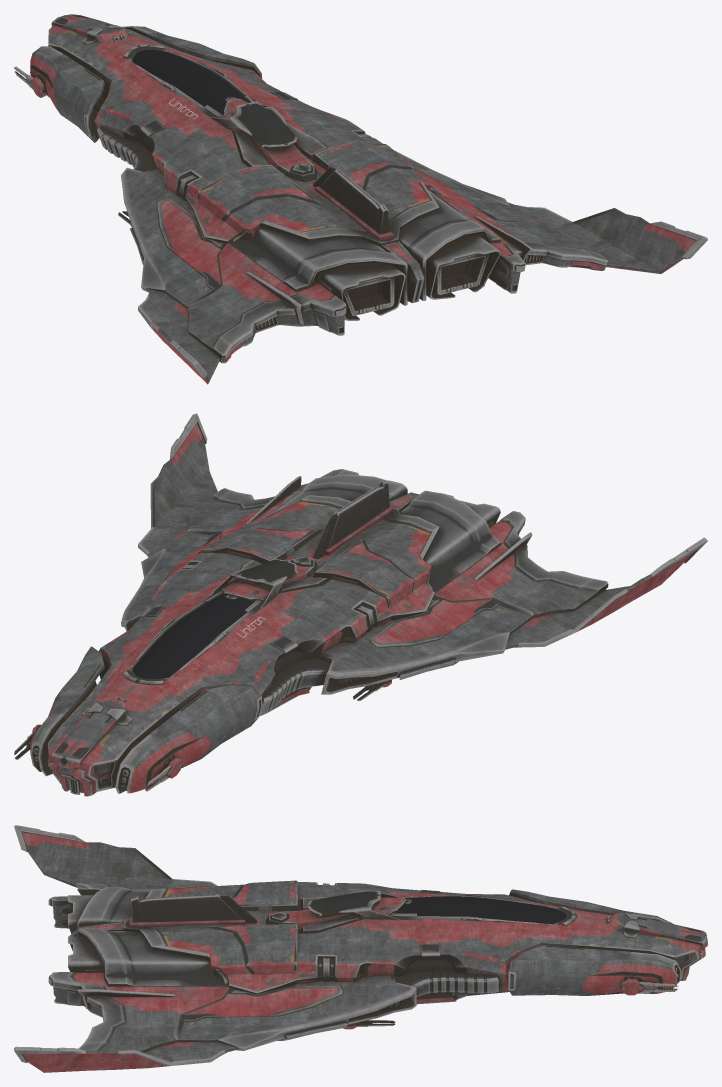
File: Pesawat.glb
The picture shows the model from 3 angles, top to bottom: view 1: azimuth 30°, elevation 25°; view 2: azimuth 150°, elevation 25°; view 3: azimuth 270°, elevation 25°; orthographic projection. The views are drawn at different scales.
Visible parts, largest first — view 1: Spaceship_Turbine_0, Spaceship_Osn_0; view 2: Spaceship_Turbine_0, Spaceship_Osn_0; view 3: Spaceship_Turbine_0, Spaceship_Osn_0.
Boxes of the visible parts, <box> form: Spaceship_Turbine_0: <box>14,24,707,384</box>; Spaceship_Osn_0: <box>48,14,439,303</box>; Spaceship_Turbine_0: <box>14,413,707,793</box>; Spaceship_Osn_0: <box>48,492,439,796</box>; Spaceship_Turbine_0: <box>14,825,681,1072</box>; Spaceship_Osn_0: <box>69,880,707,1004</box>.
Bounding box in the file's own units: 20.67 × 3.93 × 26.97.
2 materials, 2 textured.
